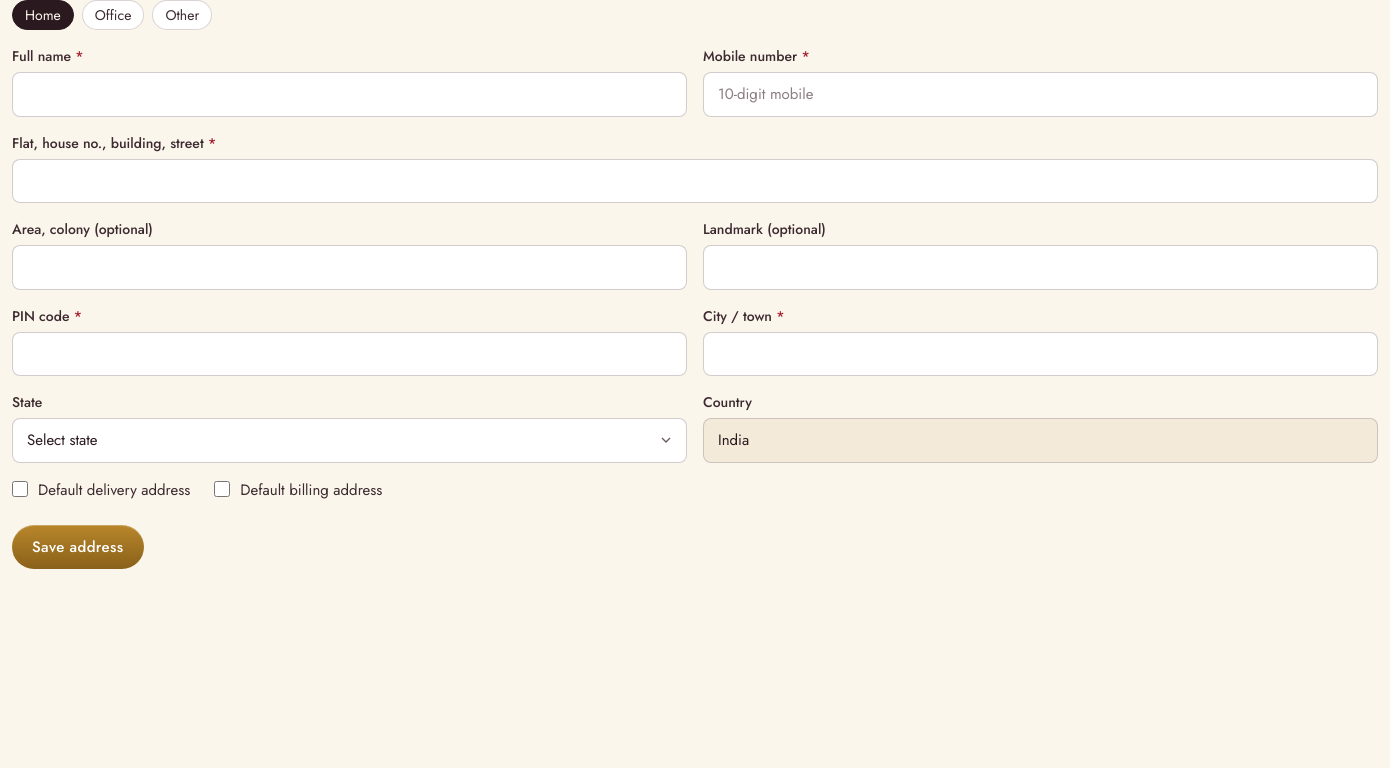
it: <AddressForm> › shows field errors and does not submit invalid data
Type "12" into the field labelled "PIN code *" at (350,354), box [12,332,687,376]
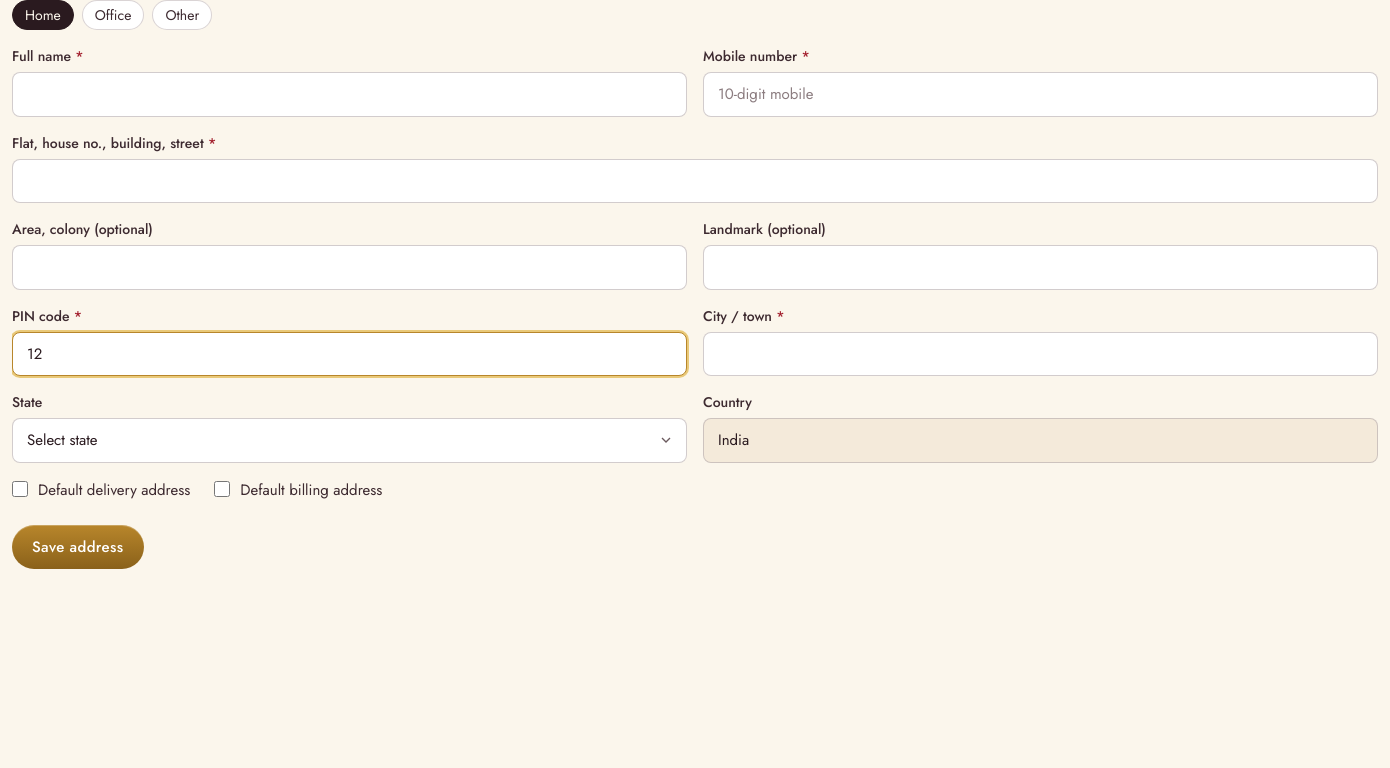
Click the button "Save address" at (78,547), box [12,525,144,569]
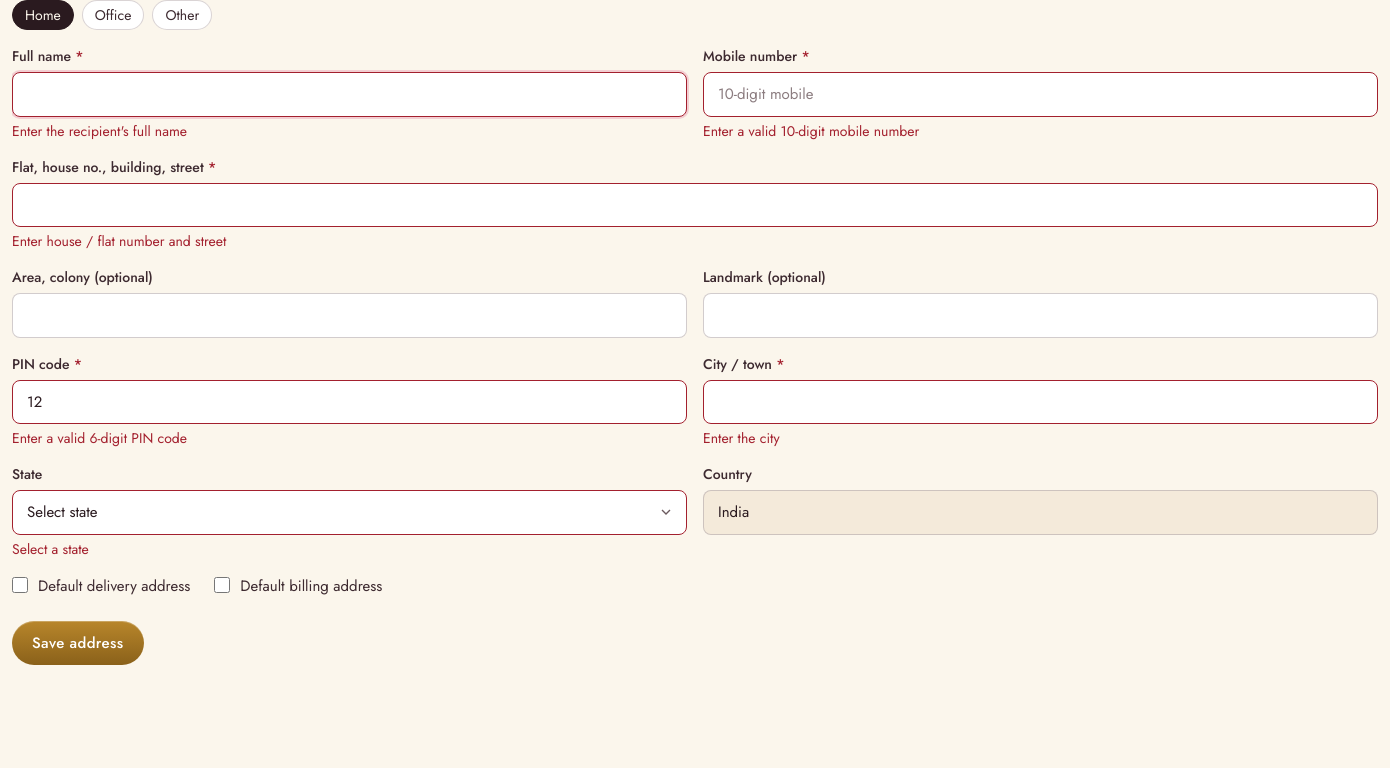
Expected: the text "Enter a valid 6-digit PIN code" is shown, [12,428,187,448]
Expected: the text "Enter a valid 10-digit mobile number" is shown, [703,120,919,140]
